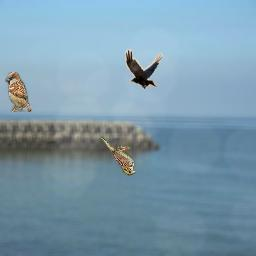Crow: (125, 49, 163, 89)
Sparrow: (101, 136, 136, 176), (5, 72, 32, 112)
